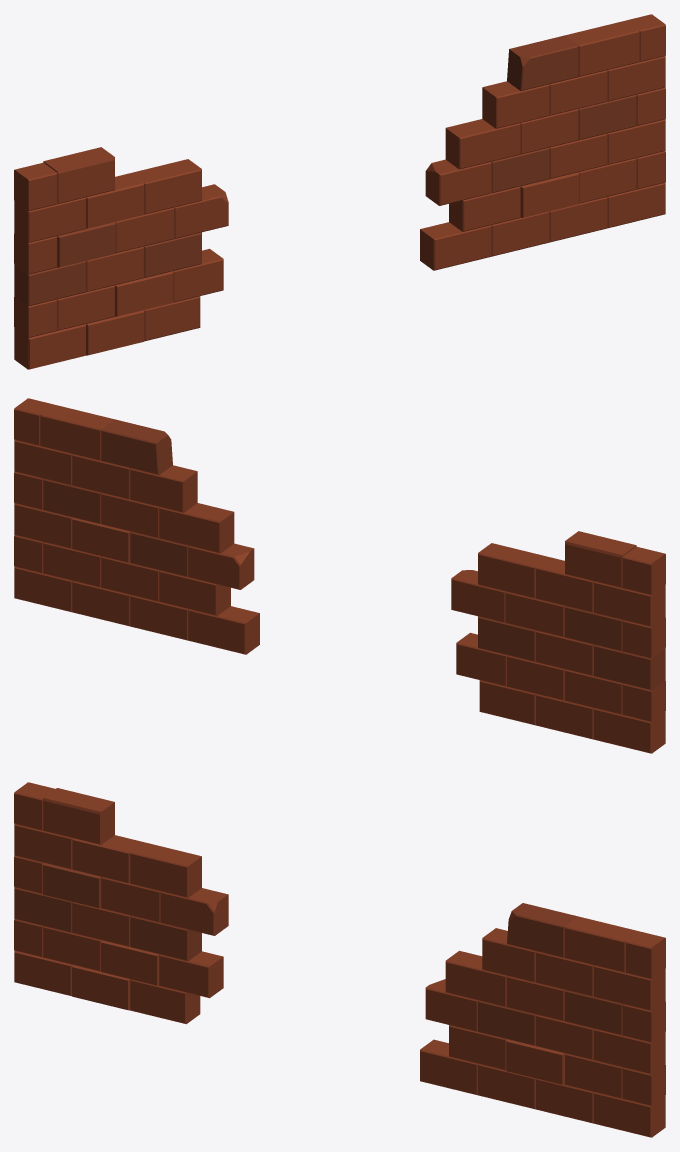
Rendered from Wall_08.fbx.
The picture shows the model from 3 angles, top to bottom: view 1: azimuth 30°, elevation 25°; view 2: azimuth 150°, elevation 25°; view 3: azimuth 330°, elevation 25°; orthographic projection.
Parts seen in each view (by area): view 1: Wall_08; view 2: Wall_08; view 3: Wall_08.
Boxes of the visible parts, box(x1,y1,x2,y2) form: Wall_08: box(14, 14, 665, 369); Wall_08: box(14, 398, 665, 753); Wall_08: box(14, 782, 665, 1137).
Size of the model in its own units: 500 by 144 by 22.25.
